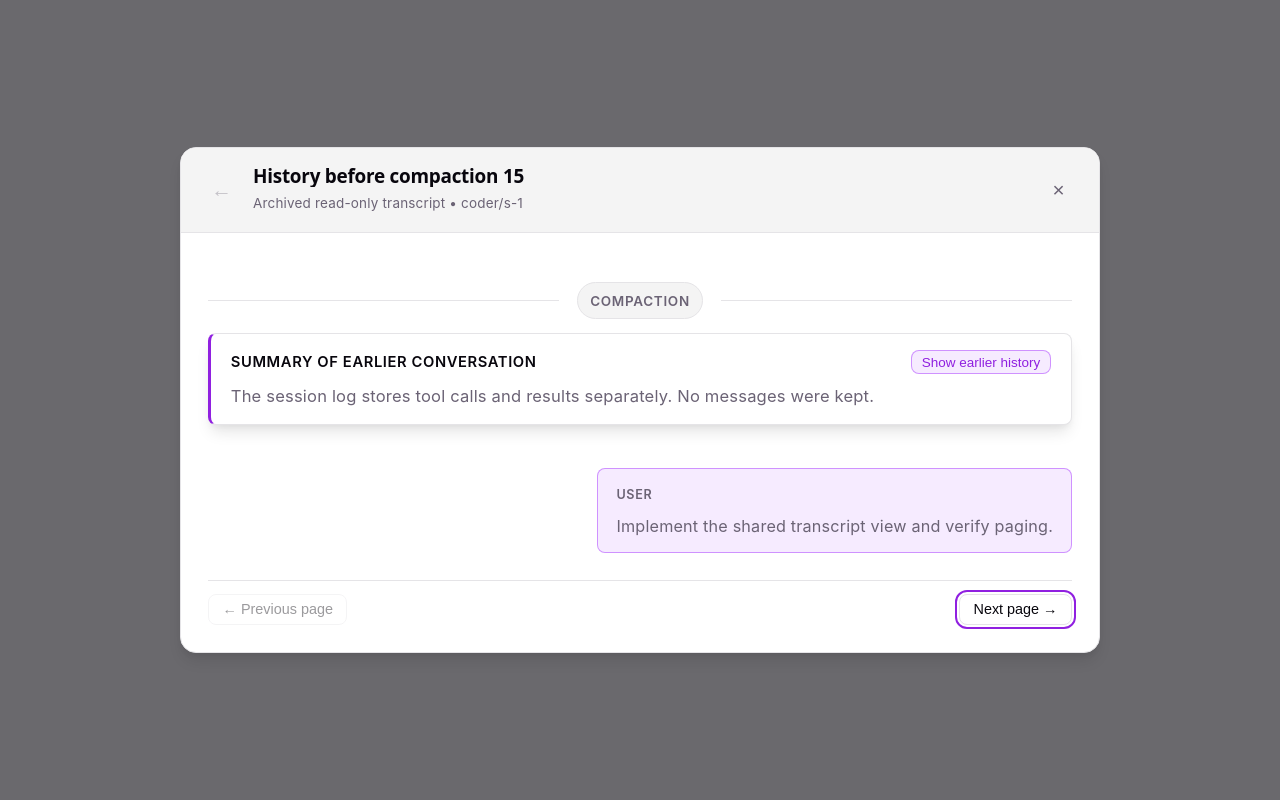
Test: ArchivedHistoryViewer (D4 browse-back) › keeps focus inside the dialog after next/prev page loads rather than dropping to body
This screenshot has width=1280, height=800.
Click the button "Next page →" at (1016, 609), box [959,594,1072,625]
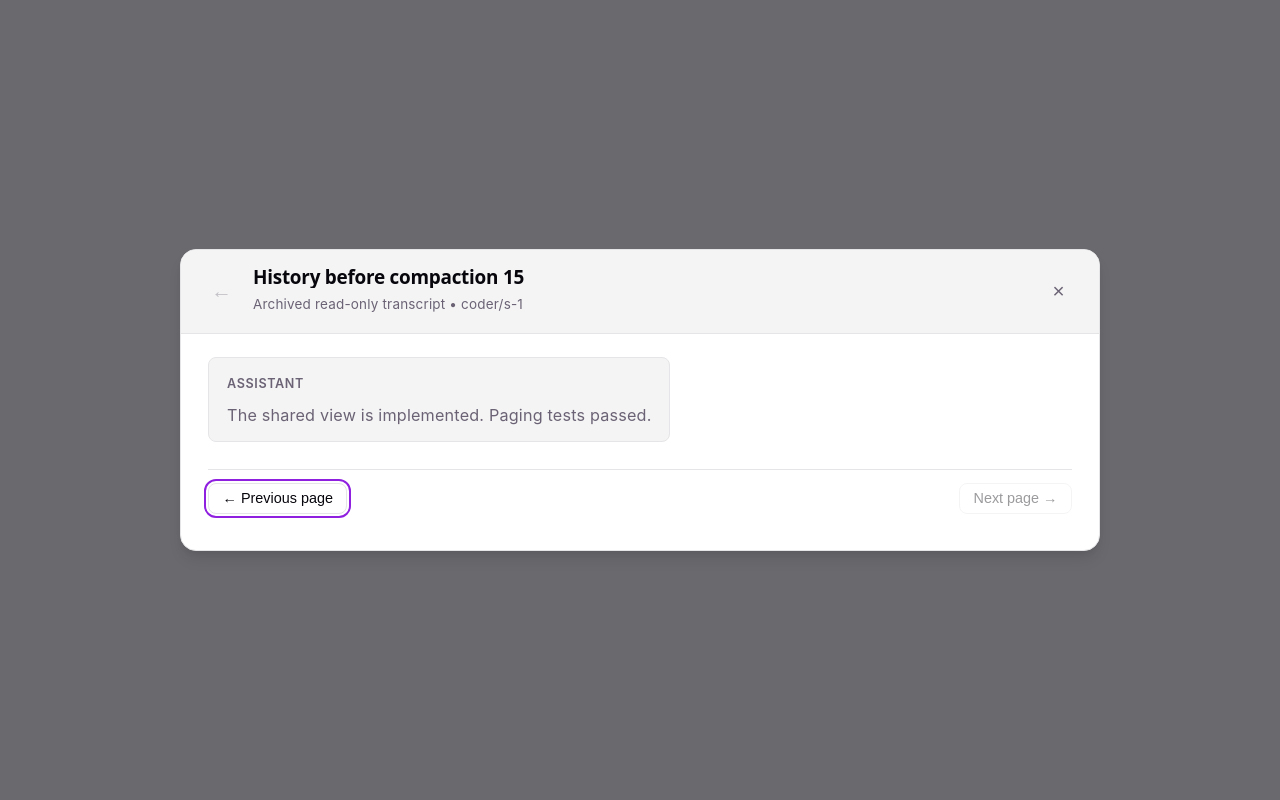
Expected: the text "The shared view is implemented. Paging tests passed." is shown, [227,403,652,427]
Click the button "← Previous page" at (278, 498), box [208,483,347,514]
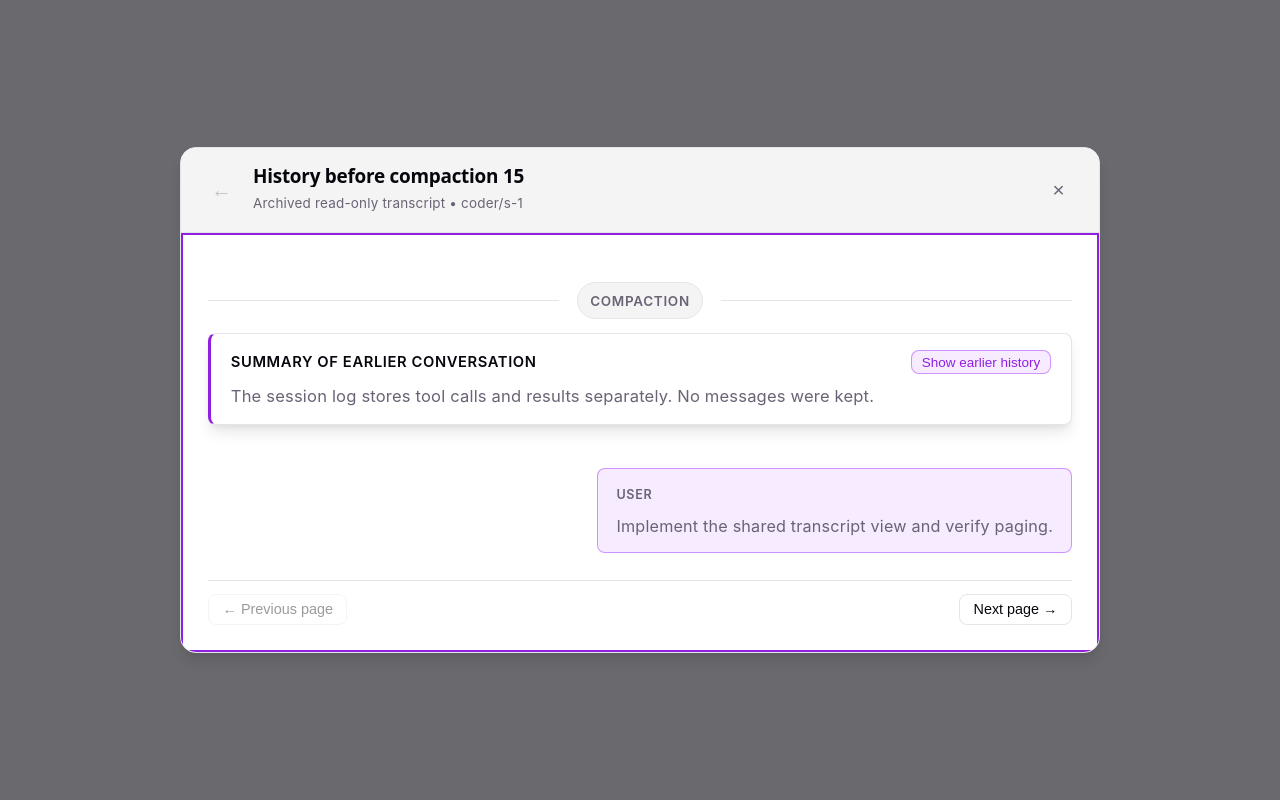
Expected: the text "Implement the shared transcript view and verify paging." is shown, [616,514,1053,538]
